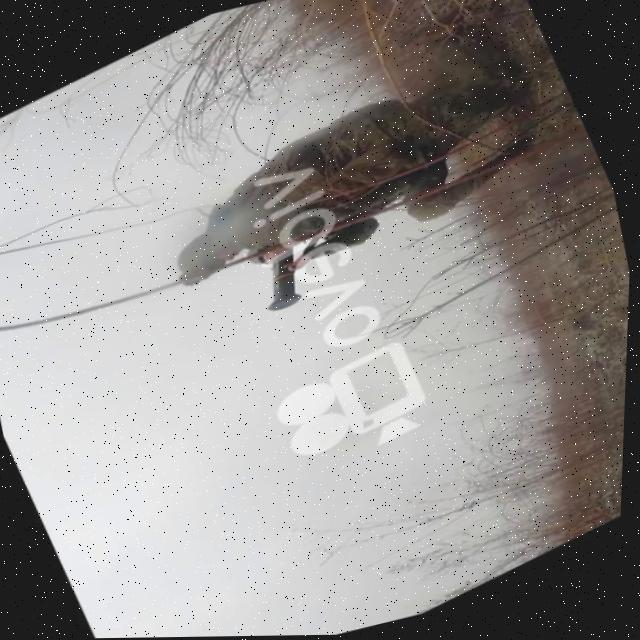rocket: (243, 240, 332, 322)
